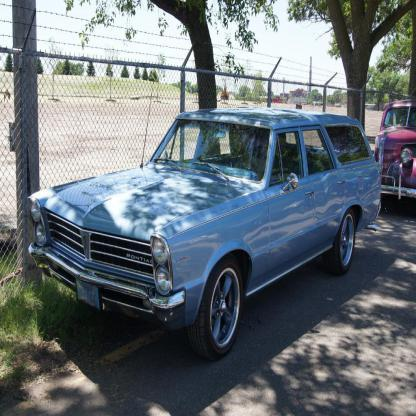car: (25, 111, 381, 359), (373, 98, 415, 200)
